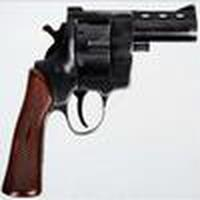gun: (5, 8, 195, 199)
